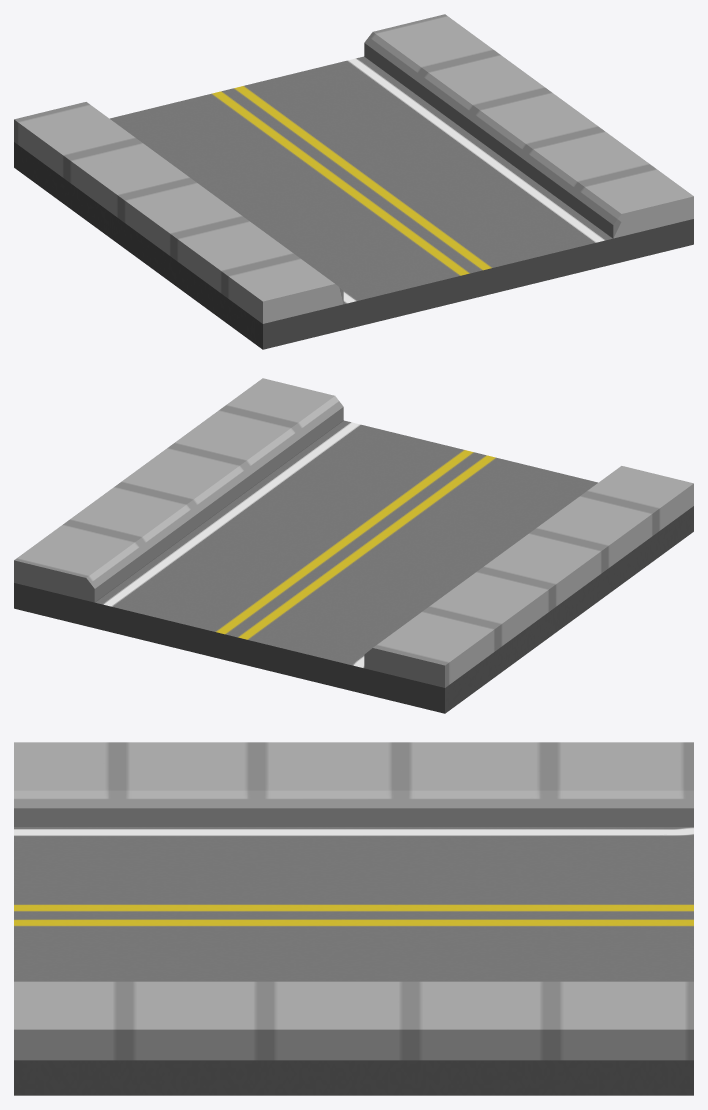
The model's file is RoadStraight.FBX.
3 views of the same model, one above another, from view 1: azimuth 30°, elevation 25°; view 2: azimuth 150°, elevation 25°; view 3: azimuth 270°, elevation 25° (orthographic). The views are drawn at different scales.
Visible parts, largest first — view 1: RoadStraight; view 2: RoadStraight; view 3: RoadStraight.
Boxes of the visible parts, left/top/right/bottom form: RoadStraight: left=14, top=14, right=693, bottom=349; RoadStraight: left=14, top=378, right=693, bottom=713; RoadStraight: left=14, top=742, right=693, bottom=1095.
Size of the model in its own units: 5.08 by 0.5438 by 5.08.
Materials: 1 (1 with a texture image).
